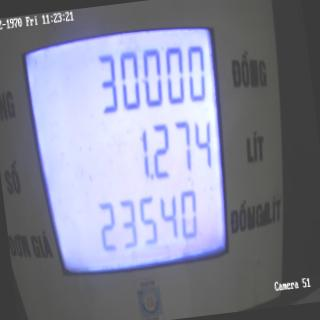screen: (13, 0, 248, 308)
